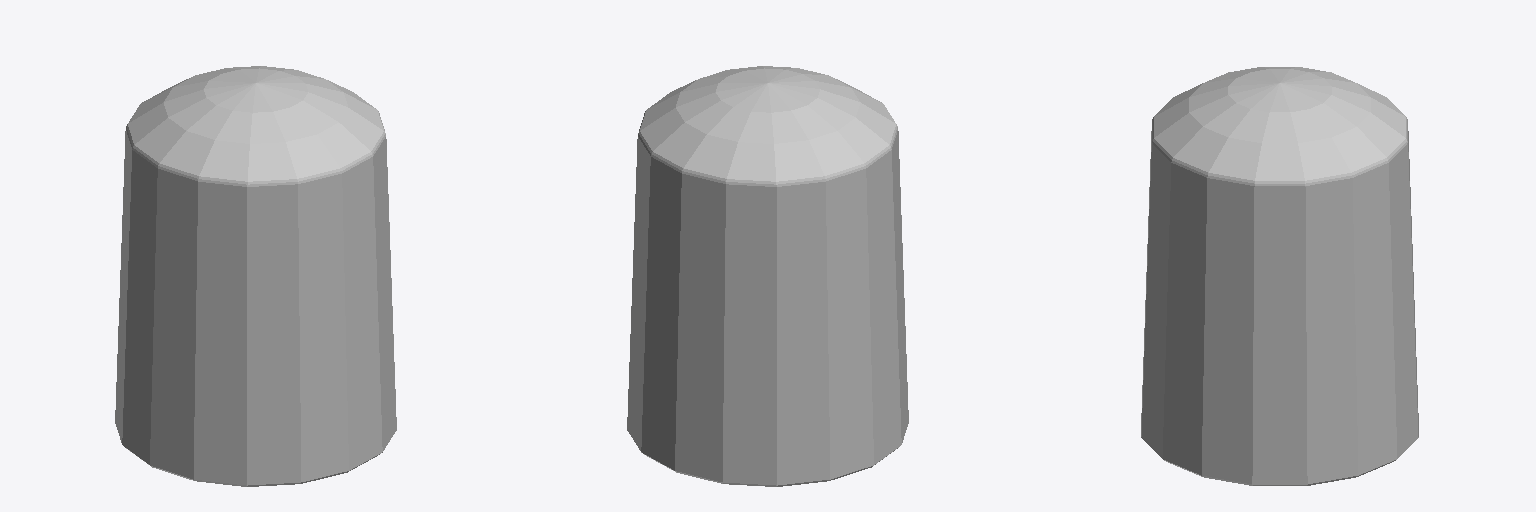
The model's file is shark_share_price_indicator.obj.
The picture shows the model from 3 angles: view 1: azimuth 30°, elevation 25°; view 2: azimuth 150°, elevation 25°; view 3: azimuth 270°, elevation 25°; orthographic projection.
Visible parts, largest first — view 1: Cylinder; view 2: Cylinder; view 3: Cylinder.
Boxes of the visible parts, box(x1,y1,x2,y2) form: Cylinder: box(115, 66, 396, 486); Cylinder: box(627, 66, 908, 486); Cylinder: box(1141, 67, 1418, 485).
Bounding box in the file's own units: 1.3 × 1.79 × 1.3.